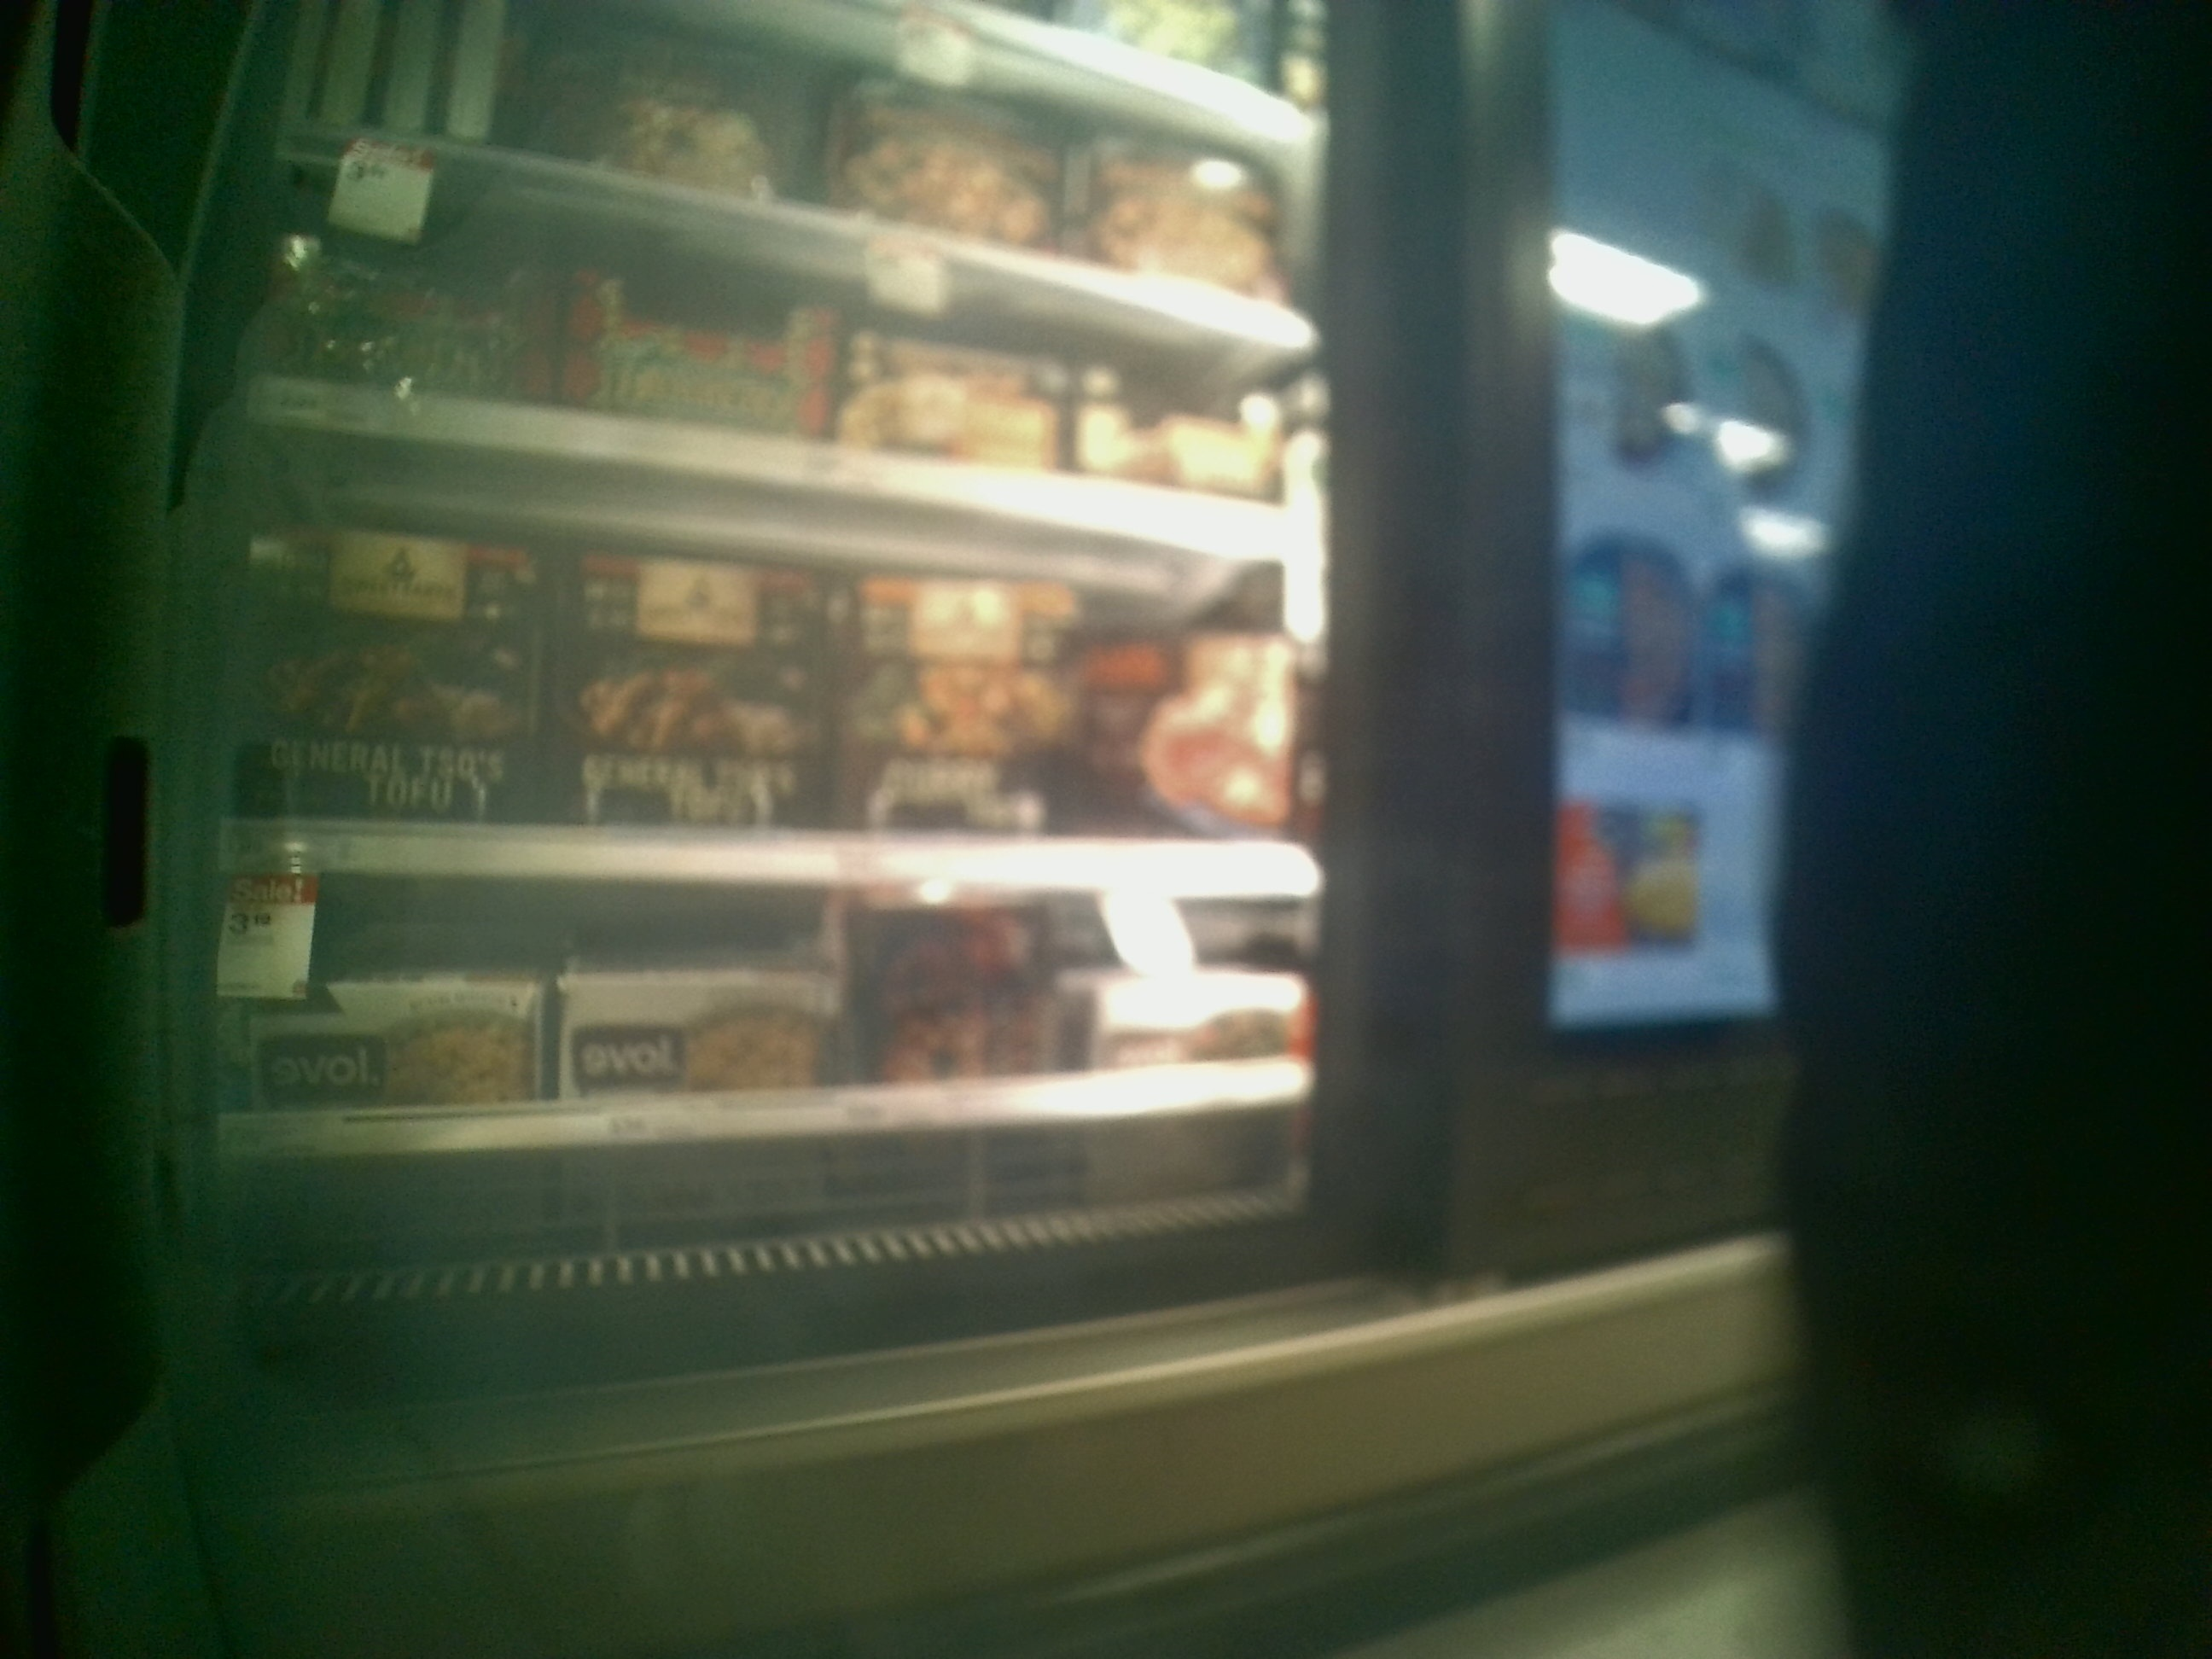frozen-food-shelf: (125, 882, 1320, 1155)
